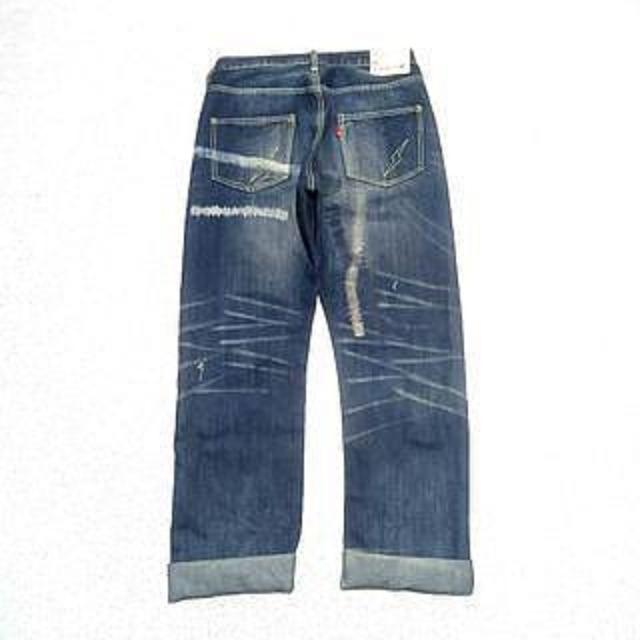TROUSER: (148, 38, 502, 606)
